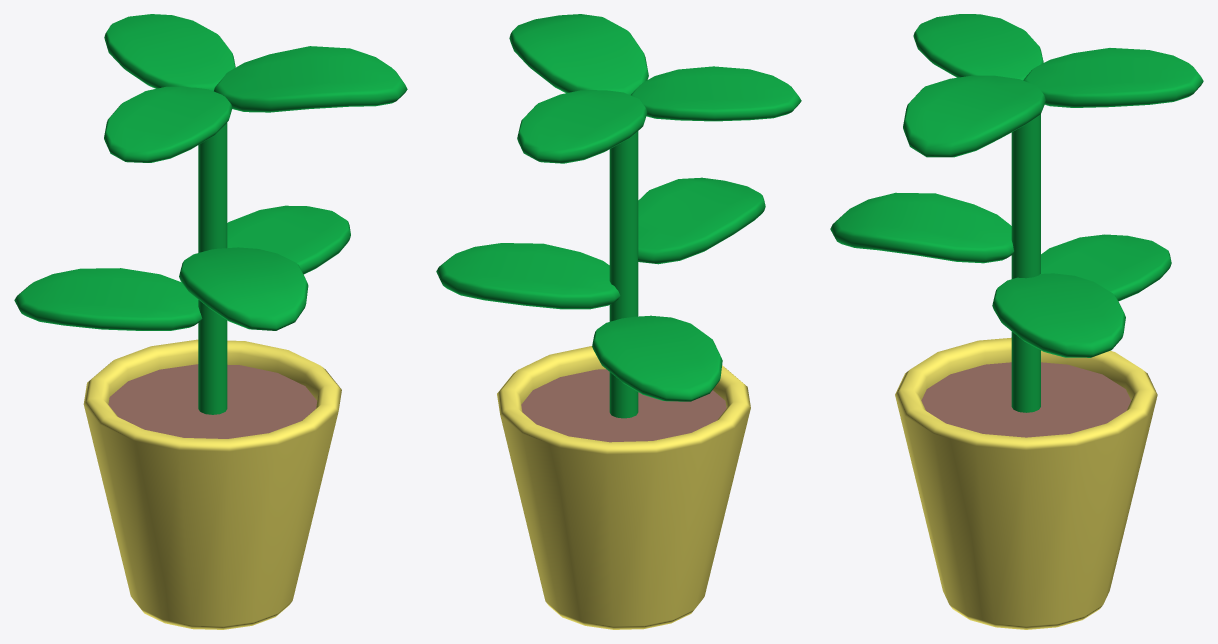
File: Store_6_Plant_14.glb
3 views of the same model, side by side, from view 1: azimuth 30°, elevation 25°; view 2: azimuth 150°, elevation 25°; view 3: azimuth 270°, elevation 25° (orthographic). The views are drawn at different scales.
Visible parts, largest first — view 1: Store_6_Plant_14; view 2: Store_6_Plant_14; view 3: Store_6_Plant_14.
Part boxes in pixels (bbox=[...]): Store_6_Plant_14: bbox=[14, 14, 407, 629]; Store_6_Plant_14: bbox=[436, 14, 801, 629]; Store_6_Plant_14: bbox=[830, 14, 1203, 629].
Size of the model in its own units: 0.56 by 0.9478 by 0.6022.
1 material, 1 textured.
